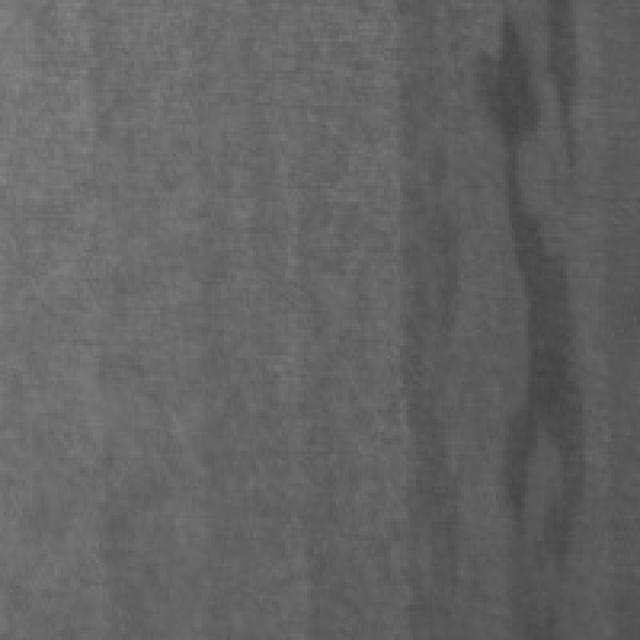inclusion: (480, 0, 614, 573), (391, 0, 480, 630)
